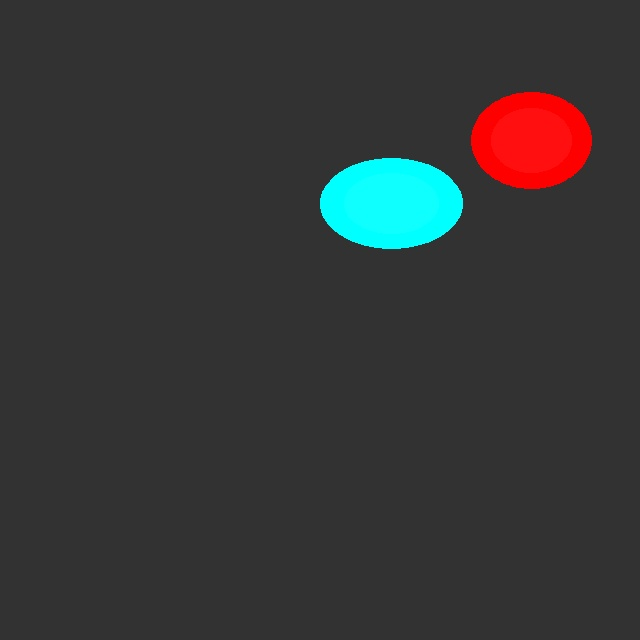fish: (320, 158, 462, 248), (471, 92, 592, 188)
